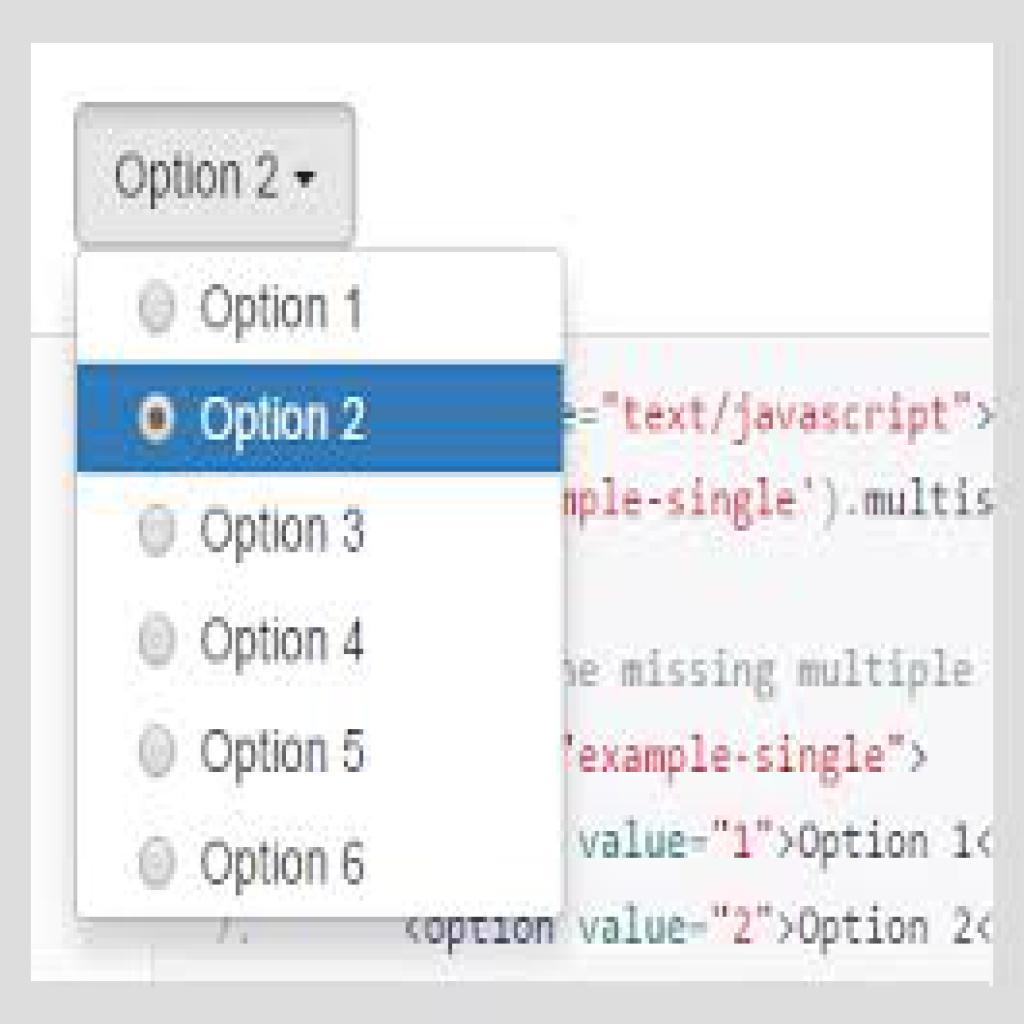dropdown: (78, 109, 353, 246)
radio: (125, 267, 189, 348), (131, 383, 188, 462), (132, 490, 184, 567), (129, 715, 188, 780), (129, 600, 182, 670), (129, 833, 187, 896)
